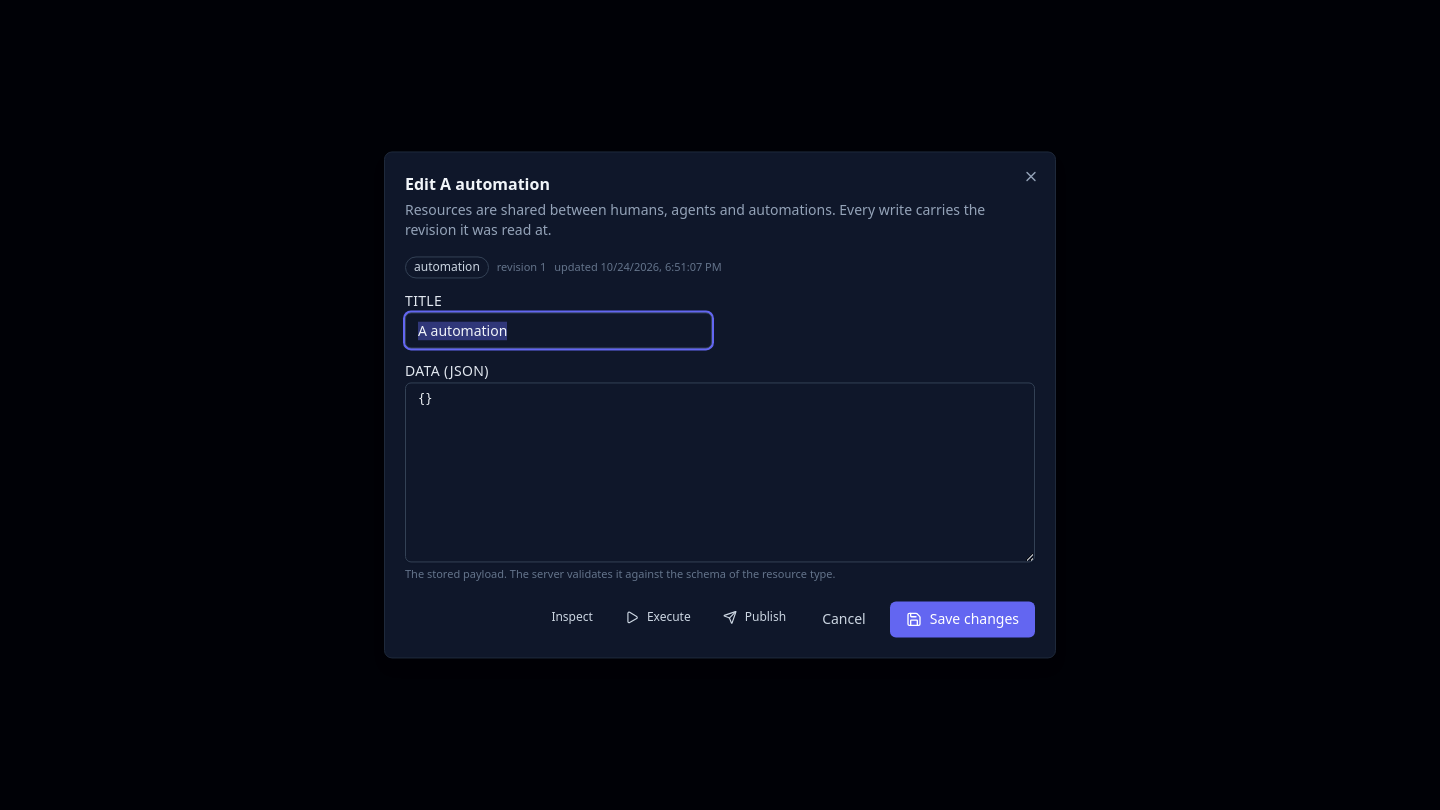
Scenario: the outcome the panel renders › does not say a queued run ran
This screenshot has width=1440, height=810.
Click the button "Execute" at (658, 618), box [613,602,703,634]
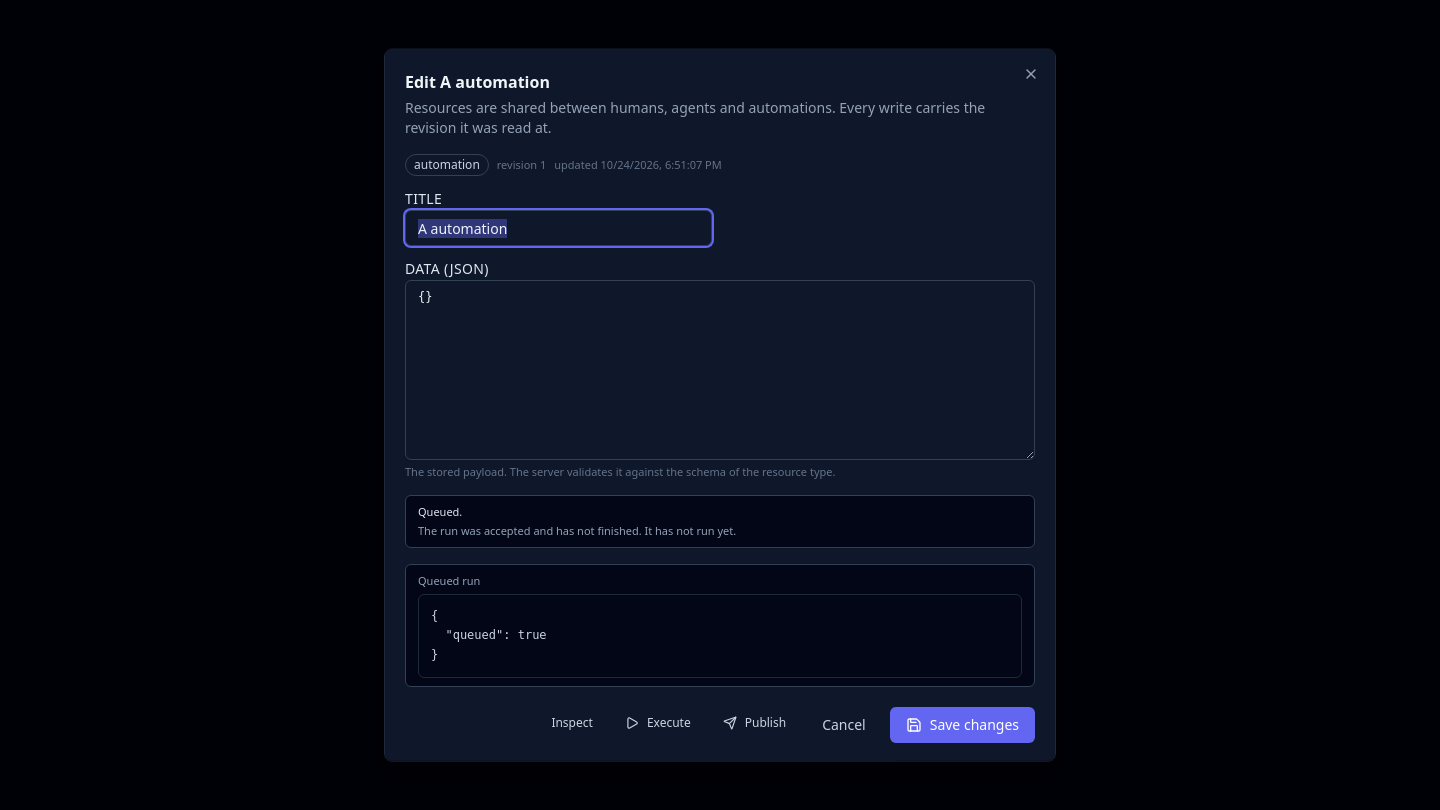
Now the text "Queued." is shown, box [418,504,462,519]
Now the text "The run was accepted and has not finished. It has not run yet." is shown, box [418,522,736,537]
